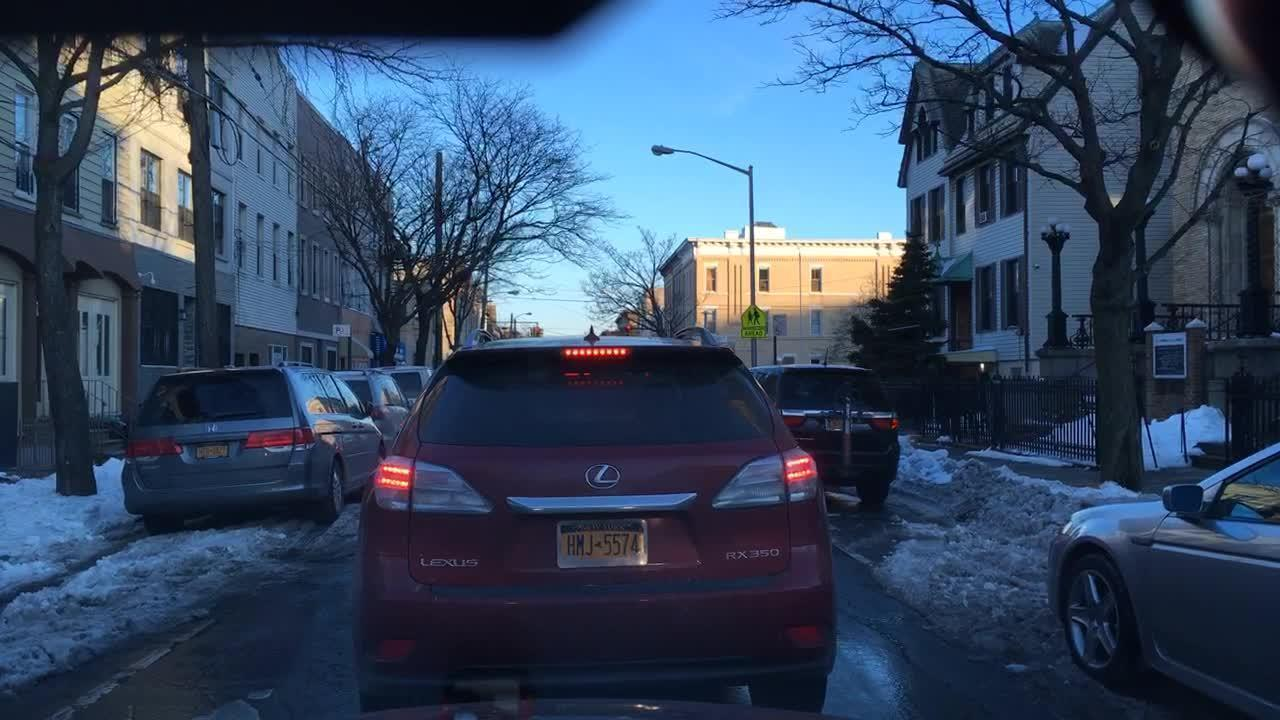Honda: (201, 420, 220, 434)
lexus: (582, 461, 621, 492)
